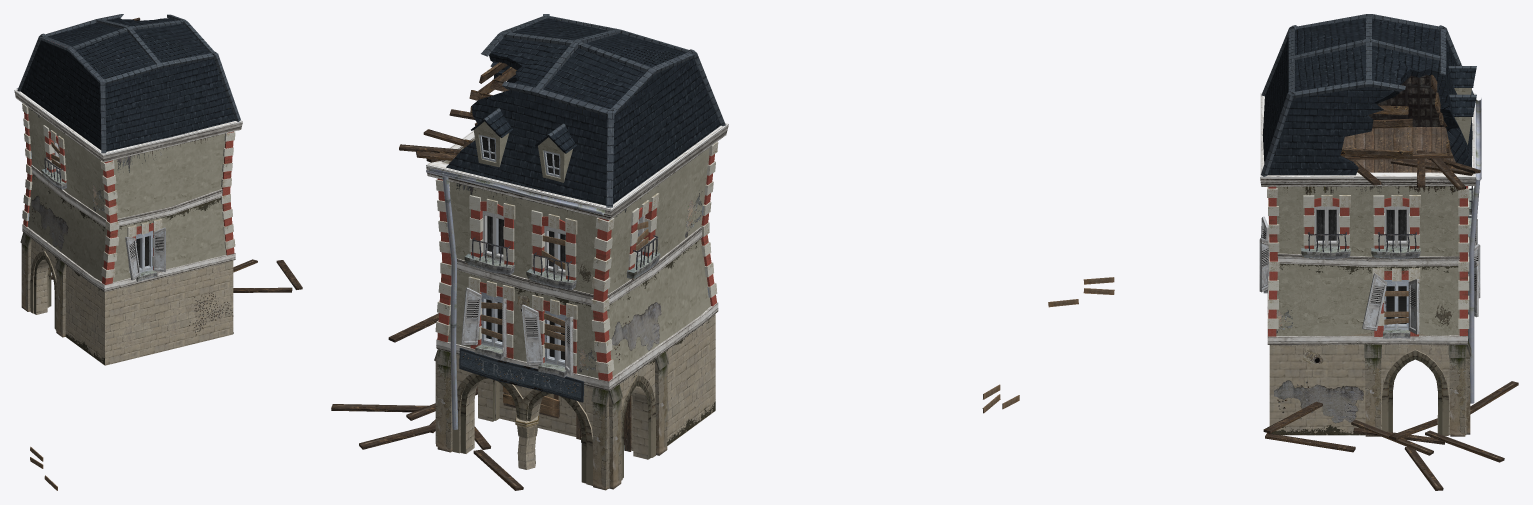
File: casa3.fbx
3 renders of one model, left to right at view 1: azimuth 30°, elevation 25°; view 2: azimuth 150°, elevation 25°; view 3: azimuth 270°, elevation 25°, orthographic. The views are drawn at different scales.
Parts seen in each view (by area): view 1: House_Market; view 2: House_Market; view 3: House_Market.
Boxes of the visible parts, bbox=[...] form: House_Market: bbox=[14, 14, 302, 490]; House_Market: bbox=[331, 14, 1019, 490]; House_Market: bbox=[1048, 14, 1518, 490].
Size of the model in its own units: 2137 by 1805 by 1989.
